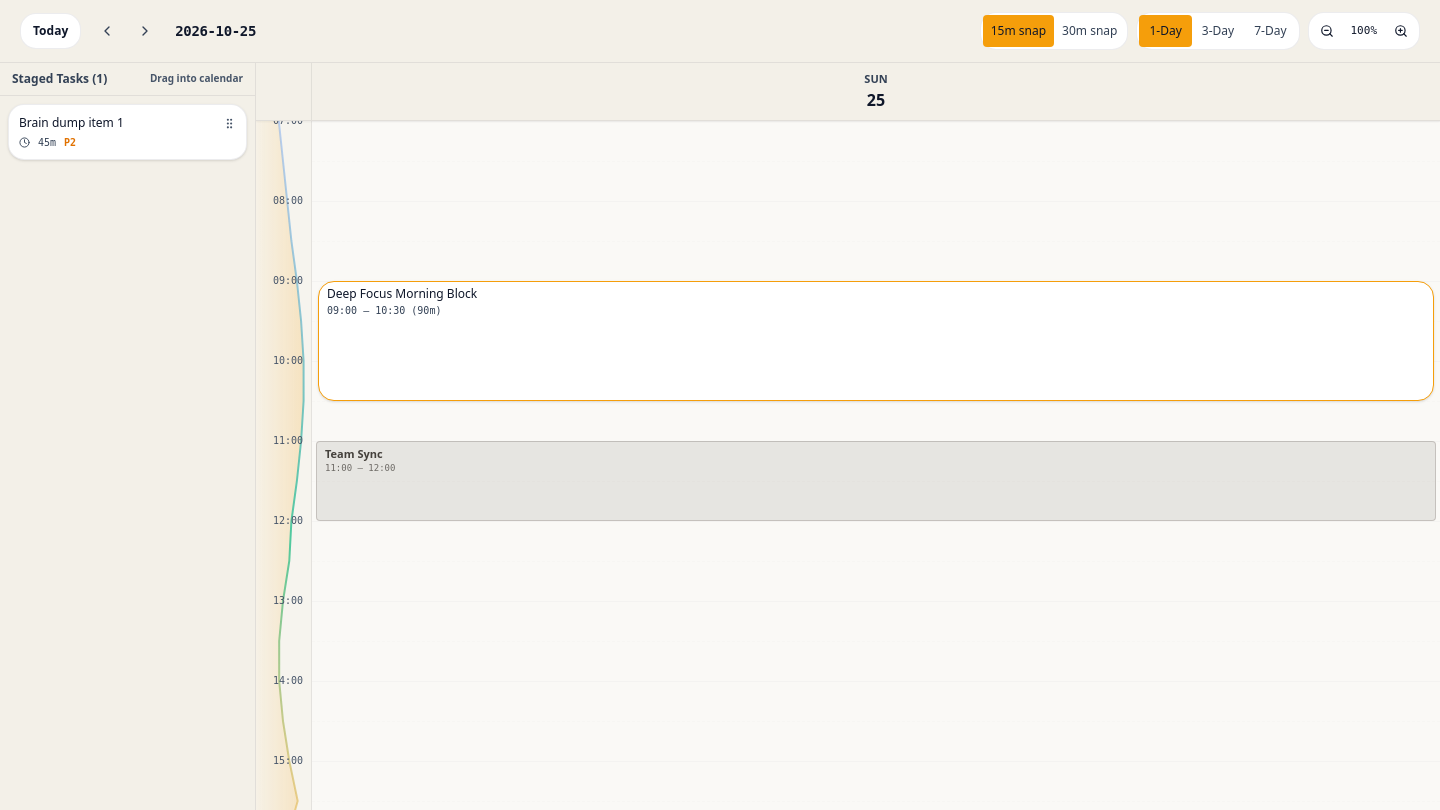
Test: CalendarTimeGrid › handles zooming in and zooming out
Expected: the text "100%" is shown, [1350, 24, 1377, 37]
Click the button named "Zoom In" at (1401, 31), box [1385, 15, 1417, 47]
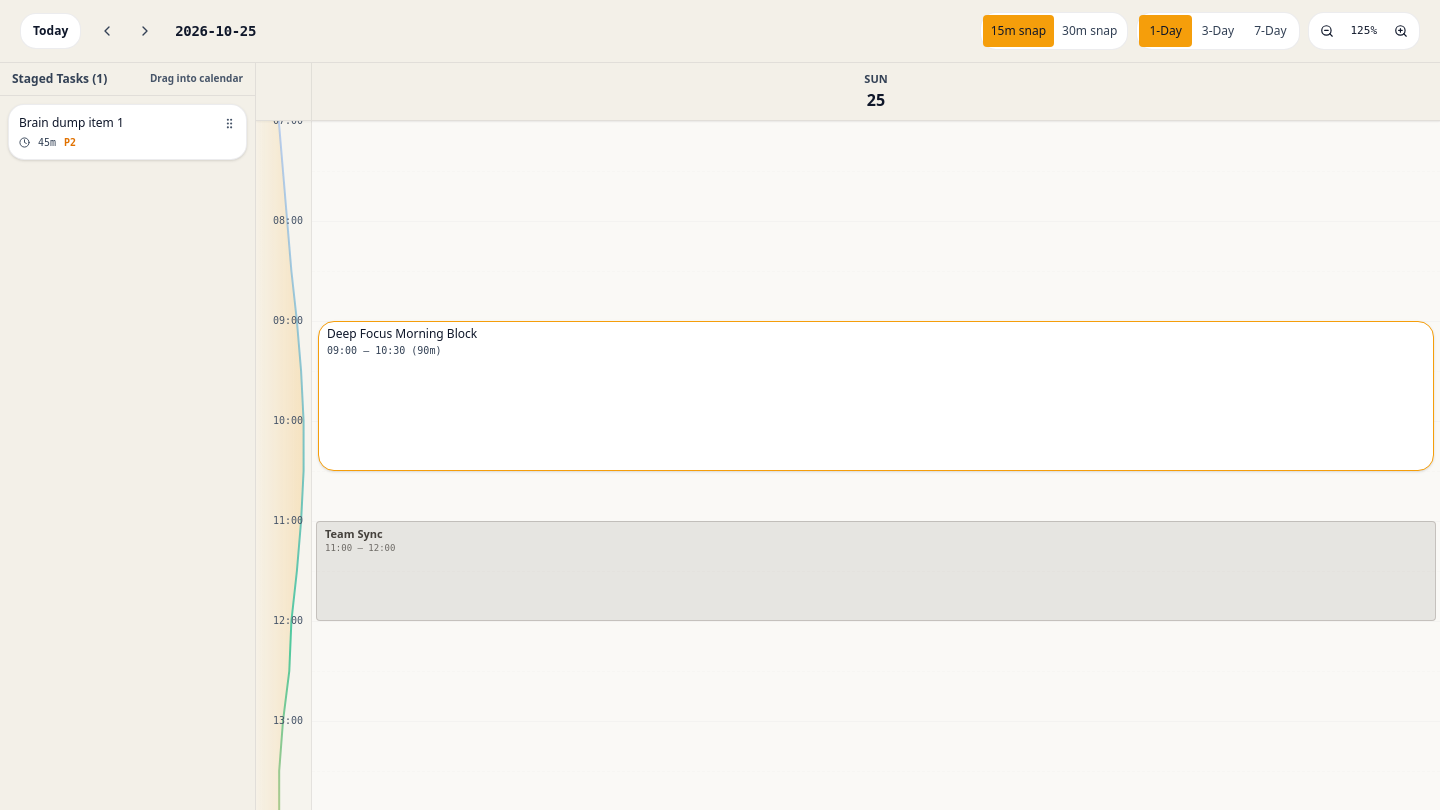
Result: the text "125%" is shown at [1350, 24, 1377, 37]
Click the button named "Zoom Out" at (1326, 31), box [1310, 15, 1342, 47]
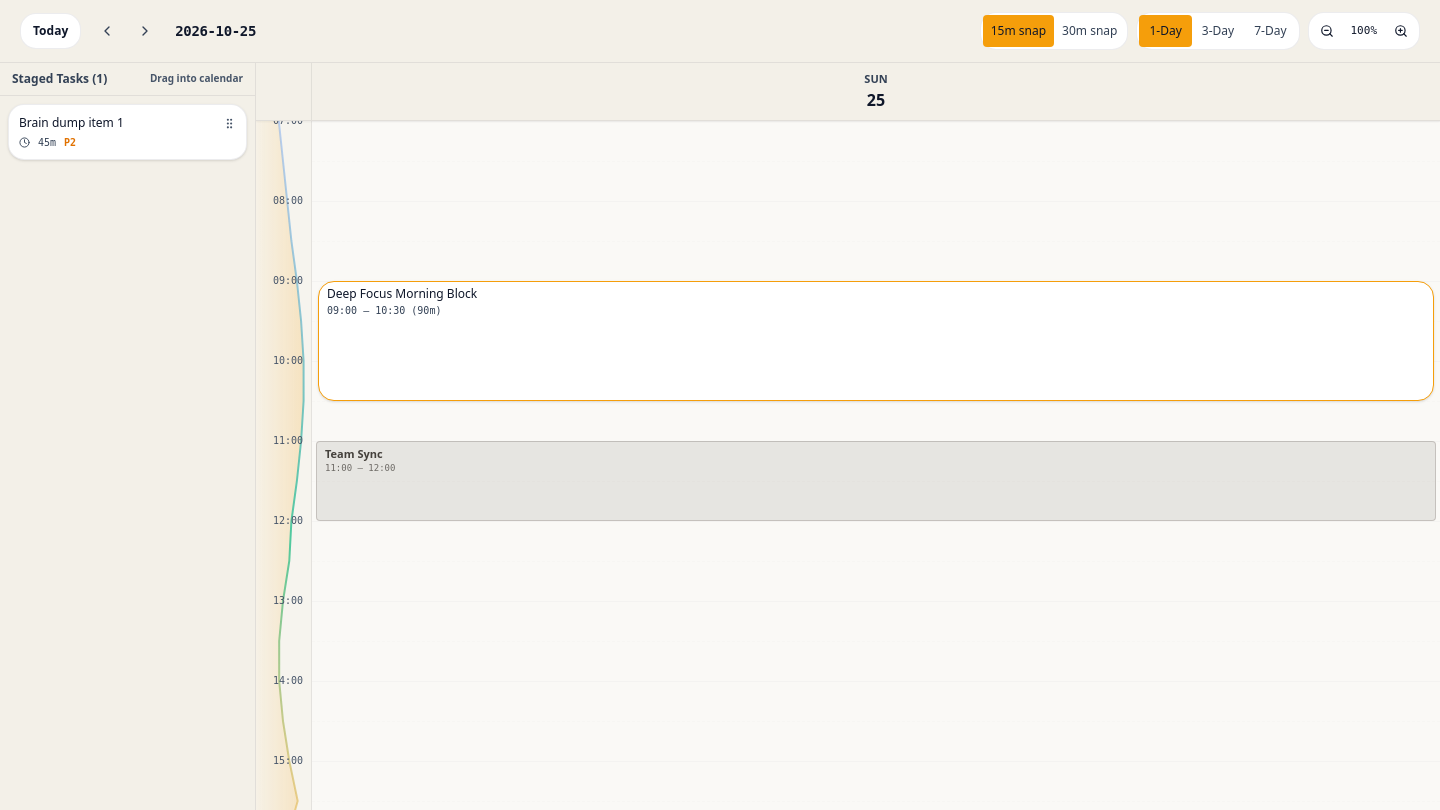
Result: the text "100%" is shown at [1350, 24, 1377, 37]
